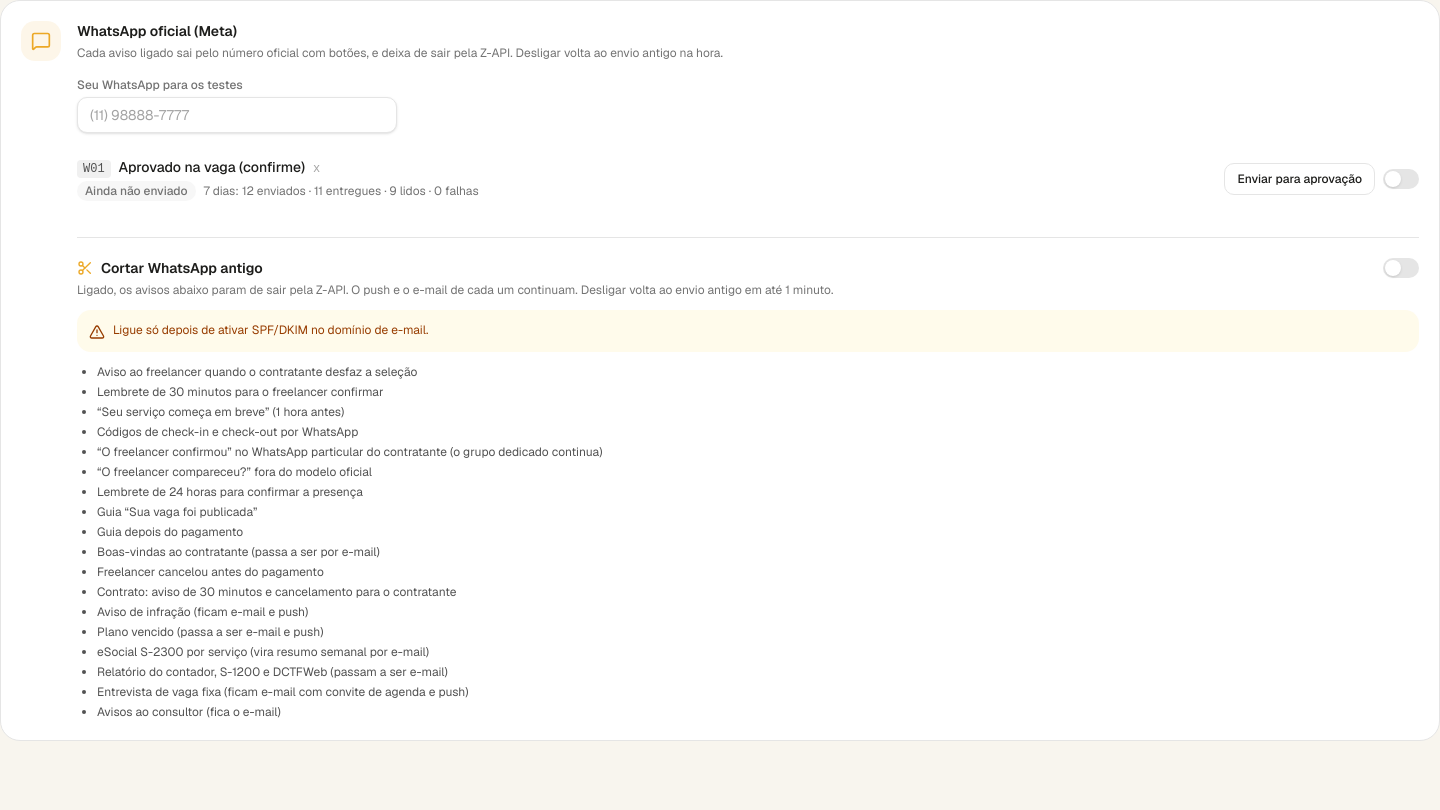
Test: MetaEventsCard › recarrega a lista depois de enviar para aprovação
This screenshot has width=1440, height=810.
Click the button "Enviar para aprovação" at (1300, 179), box [1224,163,1375,195]
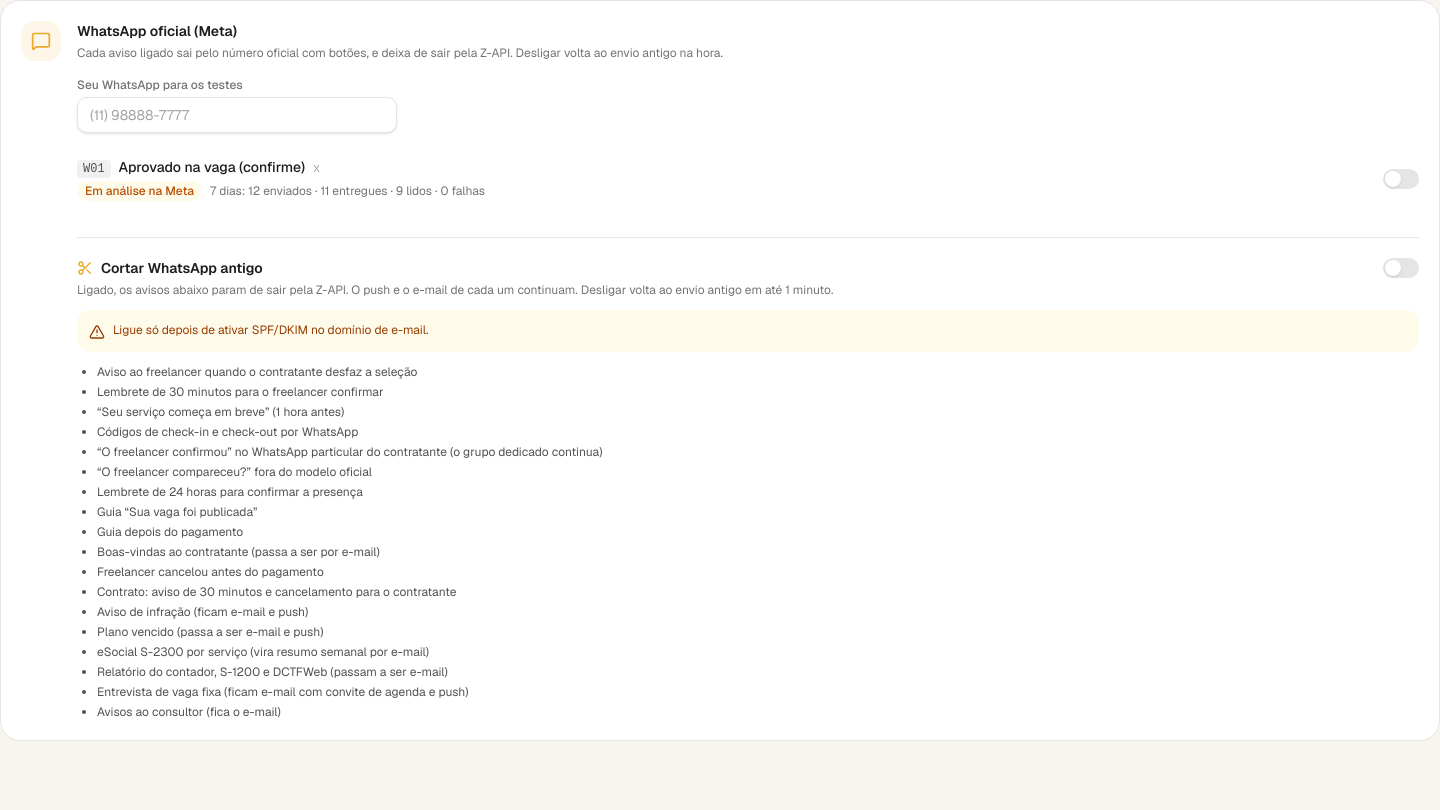
Check: the text "Em análise na Meta" is shown, box [77,181,202,201]
